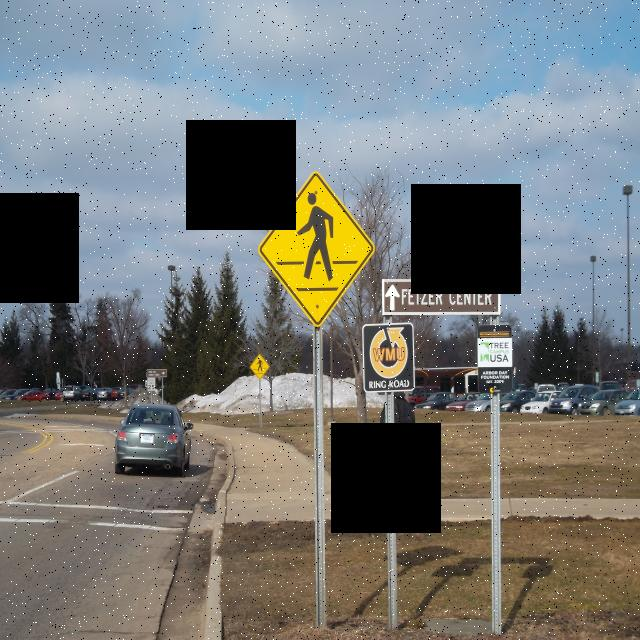regulatory: (146, 376, 157, 392)
warning: (255, 168, 379, 332), (249, 353, 271, 381)
